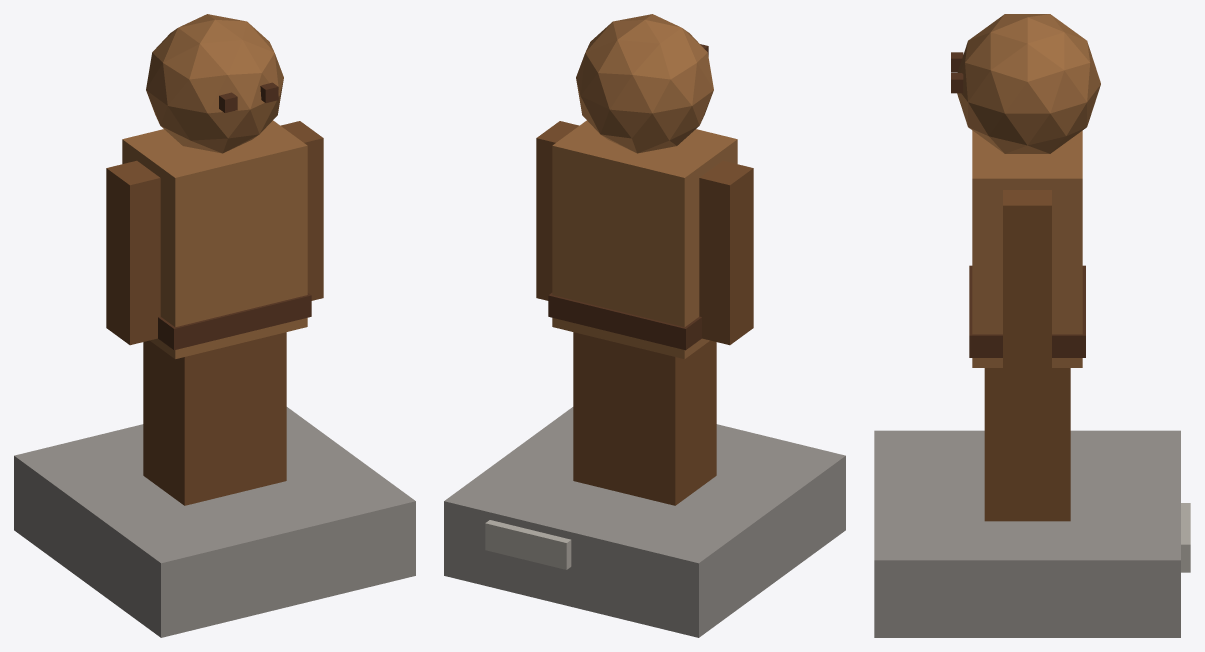
The model's file is carving_2.glb.
3 renders of one model, left to right at view 1: azimuth 30°, elevation 25°; view 2: azimuth 150°, elevation 25°; view 3: azimuth 270°, elevation 25°, orthographic. The views are drawn at different scales.
Visible parts, largest first — view 1: footing, plank_dark, body, head, timber; view 2: footing, plank_dark, body, head, timber, st; view 3: footing, plank_dark, head, body, timber, st.
Boxes of the visible parts, bbox=[...] form: footing: bbox=[14, 407, 415, 637]; plank_dark: bbox=[106, 121, 323, 505]; body: bbox=[122, 120, 307, 359]; head: bbox=[146, 14, 283, 153]; timber: bbox=[158, 82, 311, 350]; footing: bbox=[444, 407, 845, 637]; plank_dark: bbox=[536, 121, 753, 505]; body: bbox=[552, 120, 737, 359]; head: bbox=[576, 14, 713, 153]; timber: bbox=[548, 44, 708, 350]; st: bbox=[485, 520, 571, 569]; footing: bbox=[874, 430, 1180, 637]; plank_dark: bbox=[984, 190, 1070, 521]; head: bbox=[957, 14, 1100, 153]; body: bbox=[972, 130, 1082, 367]; timber: bbox=[951, 52, 1085, 357]; st: bbox=[1181, 503, 1190, 572].
Bounding box in the file's own units: 0.5 × 1 × 0.516.
